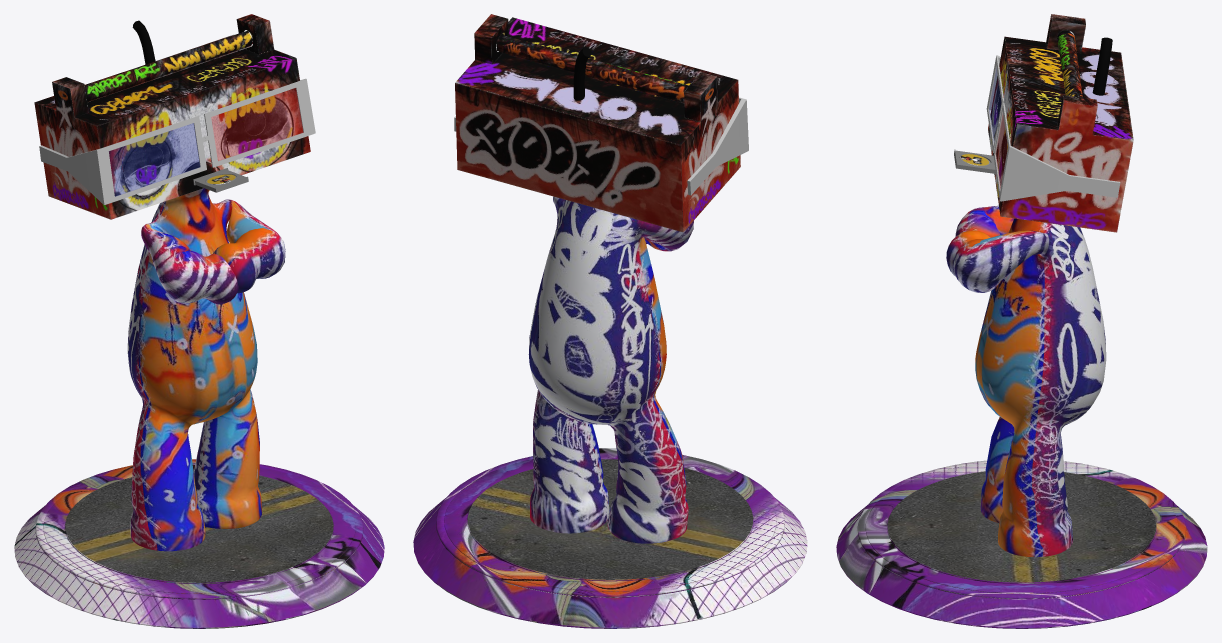
3 views of the same model, side by side, from view 1: azimuth 30°, elevation 25°; view 2: azimuth 150°, elevation 25°; view 3: azimuth 270°, elevation 25° (orthographic). The views are drawn at different scales.
Bounding box in the file's own units: 1.45 × 2.17 × 1.45.
12 materials, 5 textured.
